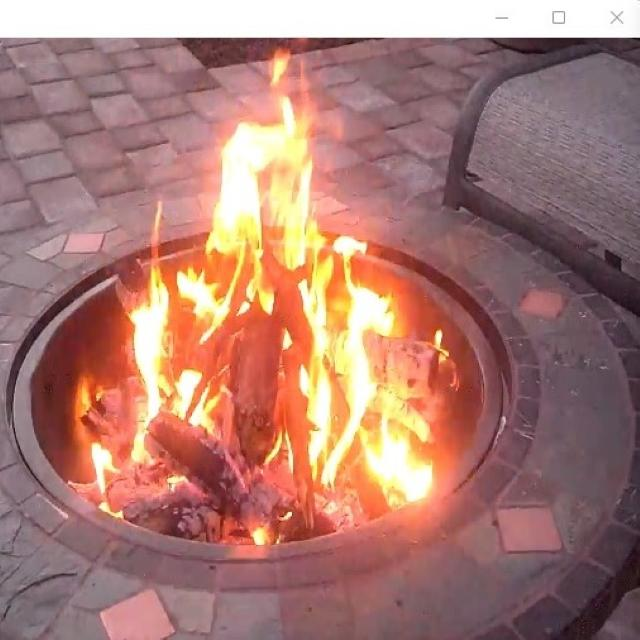Fire: (67, 47, 452, 554)
